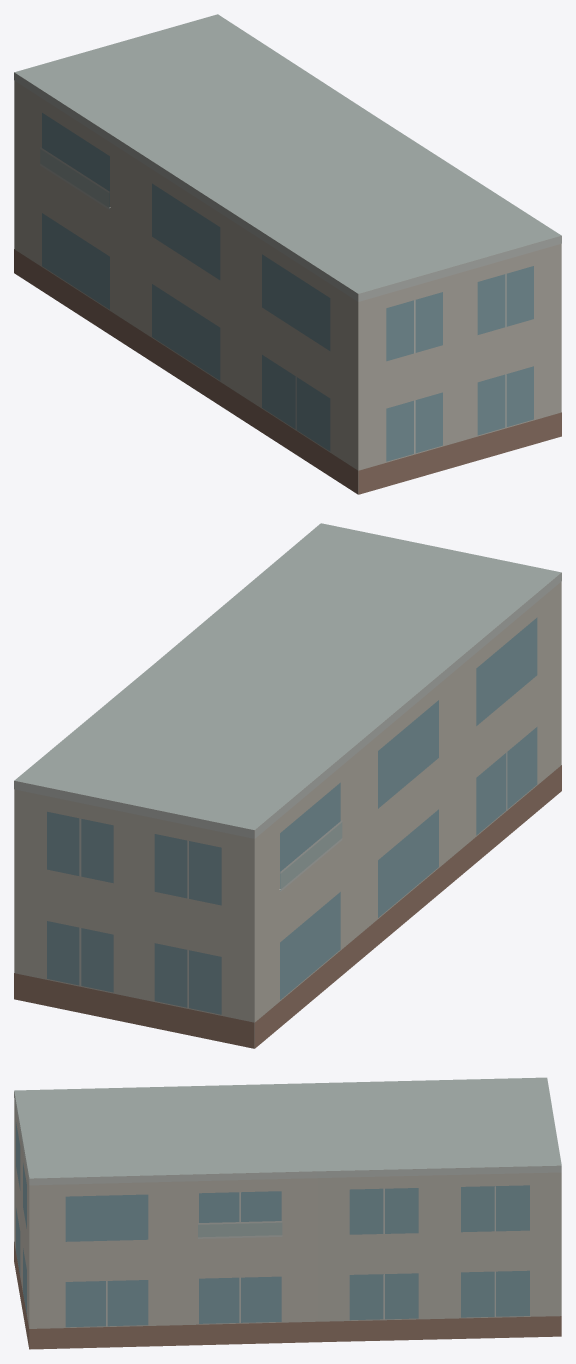
Rendered from survey-upis-32739393.glb.
3 renders of one model, top to bottom at view 1: azimuth 30°, elevation 25°; view 2: azimuth 150°, elevation 25°; view 3: azimuth 270°, elevation 25°, orthographic. The views are drawn at different scales.
Parts seen in each view (by area): view 1: survey-upis-32739393.tmp; view 2: survey-upis-32739393.tmp; view 3: survey-upis-32739393.tmp.
Boxes of the visible parts, x1,y1,x2,y2 form: survey-upis-32739393.tmp: [14, 14, 561, 494]; survey-upis-32739393.tmp: [14, 523, 561, 1048]; survey-upis-32739393.tmp: [14, 1077, 561, 1349].
Size of the model in its own units: 7.75 by 6.1 by 17.73.
